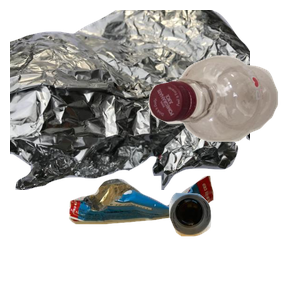glass: (166, 190, 300, 300)
metal: (10, 10, 250, 190)
plastic: (146, 53, 300, 187)
trash: (66, 173, 272, 300)
